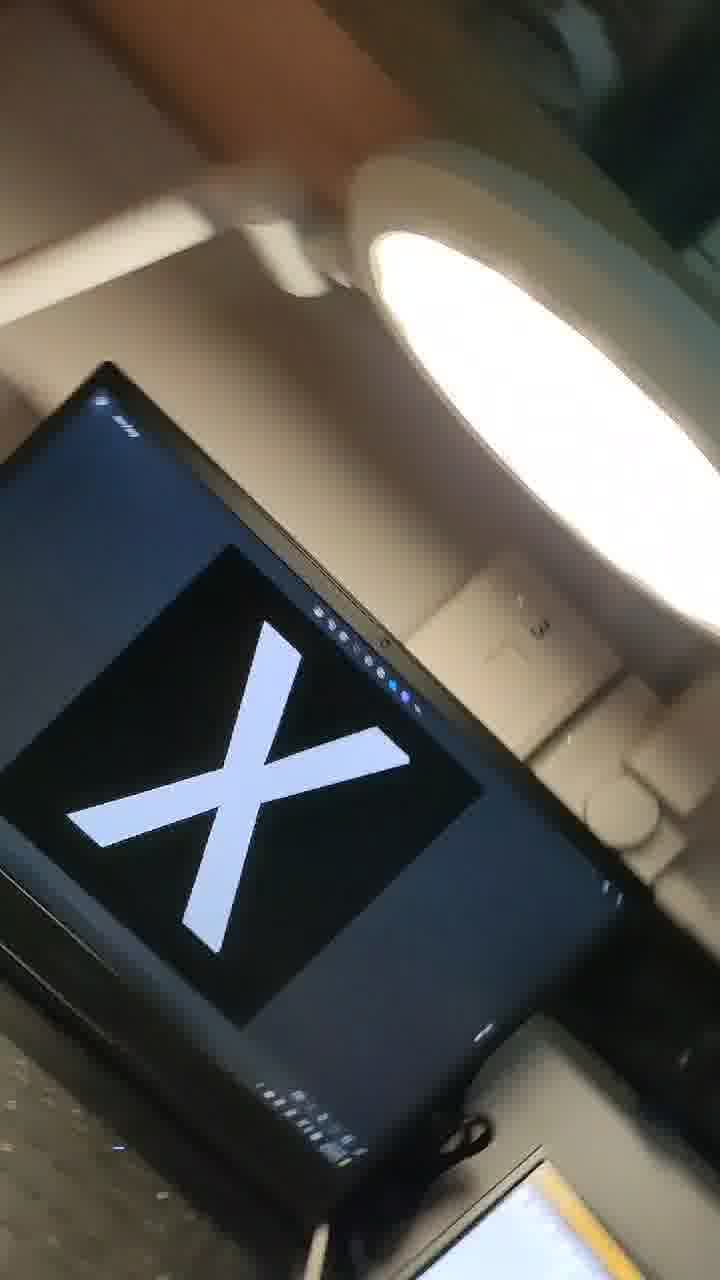X: (63, 565, 476, 1010)
